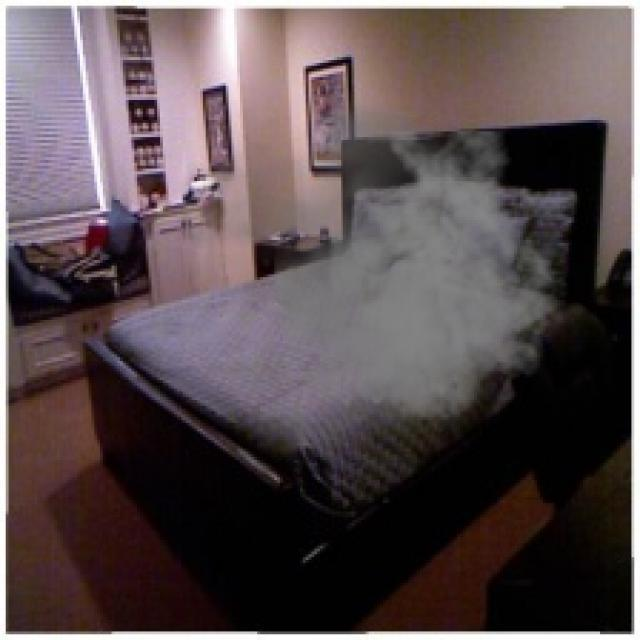Smoke: (168, 88, 566, 446)
